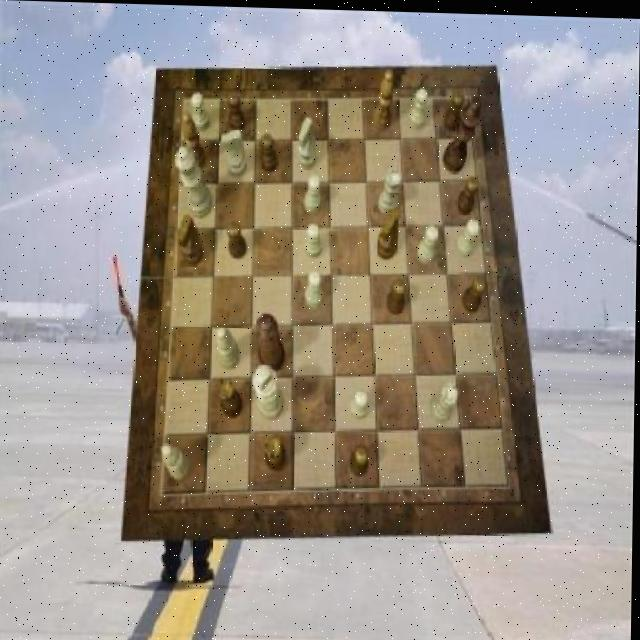bishop: (183, 111, 208, 170), (374, 67, 396, 128)
black-bishop: (443, 92, 481, 171)
black-king: (178, 213, 206, 265), (377, 206, 400, 257)
black-knight: (464, 273, 487, 311), (458, 174, 481, 212), (445, 89, 465, 129), (387, 277, 408, 314), (228, 91, 246, 132), (228, 221, 248, 257), (261, 132, 279, 171), (350, 442, 369, 475)
black-pawn: (256, 312, 287, 371)
black-queen: (220, 378, 245, 418), (267, 433, 288, 471)
black-rook: (162, 443, 192, 481), (218, 325, 243, 370)
white-bishop: (253, 363, 287, 418)
white-king: (221, 128, 248, 177), (298, 115, 319, 168)
white-knight: (456, 217, 480, 255), (419, 222, 440, 260), (191, 92, 211, 131), (409, 86, 427, 128), (306, 269, 324, 307), (305, 173, 323, 211), (305, 221, 323, 256), (351, 389, 371, 416)
white-pawn: (175, 146, 214, 218)
white-queen: (432, 381, 460, 422), (379, 166, 403, 212)
